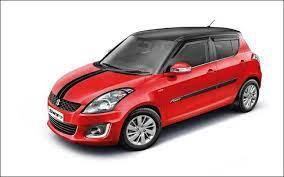Hatchback: (45, 23, 265, 150)
